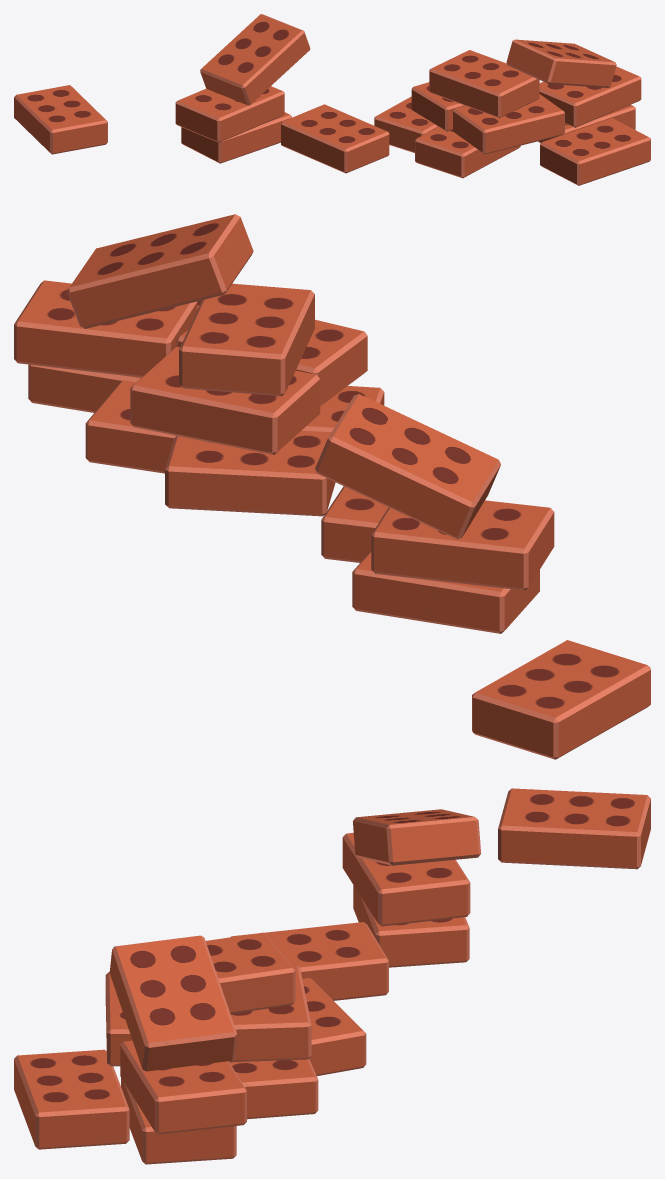
The model's file is brick1.fbx.
3 views of the same model, one above another, from view 1: azimuth 30°, elevation 25°; view 2: azimuth 150°, elevation 25°; view 3: azimuth 270°, elevation 25° (orthographic). The views are drawn at different scales.
Visible parts, largest first — view 1: Brick.015_cell.001, Brick.013_cell.001, Brick.014_cell, Brick.002_cell.001, Brick.014_cell.001, Brick.009_cell.001, Brick.005_cell.001, Brick.005_cell, Brick.012_cell.001, Brick.009_cell, Brick.001_cell, Brick.004_cell (+12 smaller); view 2: Brick.015_cell.001, Brick.006_cell.001, Brick.012_cell.001, Brick.009_cell, Brick.010_cell, Brick.014_cell.001, Brick.014_cell, Brick.008_cell, Brick.004_cell.001, Brick.004_cell, Brick.010_cell.001, Brick.008_cell.001 (+10 smaller); view 3: Brick.015_cell.001, Brick.010_cell.001, Brick.005_cell, Brick.004_cell.001, Brick.012_cell, Brick.013_cell, Brick.014_cell.001, Brick.010_cell, Brick.008_cell.001, Brick.011_cell, Brick.003_cell.001, Brick.009_cell (+10 smaller).
Boxes of the visible parts, x1,y1,x2,y2 form: Brick.015_cell.001: (14, 85, 107, 154); Brick.013_cell.001: (298, 124, 389, 173); Brick.014_cell: (200, 41, 276, 105); Brick.002_cell.001: (453, 106, 544, 154); Brick.014_cell.001: (231, 14, 310, 79); Brick.009_cell.001: (479, 56, 539, 118); Brick.005_cell.001: (540, 124, 597, 185); Brick.005_cell: (594, 118, 650, 179); Brick.012_cell.001: (175, 88, 234, 142); Brick.009_cell: (429, 50, 486, 110); Brick.001_cell: (415, 127, 490, 170); Brick.004_cell: (539, 81, 609, 127); Brick.015_cell.001: (472, 640, 650, 759); Brick.006_cell.001: (165, 430, 335, 516); Brick.012_cell.001: (412, 504, 554, 590); Brick.009_cell: (179, 309, 306, 396); Brick.010_cell: (67, 234, 253, 328); Brick.014_cell.001: (315, 394, 433, 507); Brick.014_cell: (390, 429, 500, 539); Brick.008_cell: (202, 370, 320, 454); Brick.004_cell.001: (14, 280, 91, 371); Brick.004_cell: (89, 301, 197, 377); Brick.010_cell.001: (83, 214, 246, 267); Brick.008_cell.001: (130, 347, 209, 441); Brick.015_cell.001: (498, 788, 650, 869); Brick.010_cell.001: (111, 935, 215, 1049); Brick.005_cell: (19, 1070, 129, 1149); Brick.004_cell.001: (137, 1061, 246, 1134); Brick.012_cell: (350, 846, 470, 926); Brick.013_cell: (294, 922, 388, 1000); Brick.014_cell.001: (368, 813, 481, 865); Brick.010_cell: (109, 951, 237, 1071); Brick.008_cell.001: (229, 994, 311, 1062); Brick.011_cell: (362, 901, 469, 967); Brick.003_cell.001: (131, 1102, 236, 1164); Brick.009_cell: (205, 932, 295, 1009).
Bounding box in the file's own units: 2.01 × 2.61 × 0.5396.
